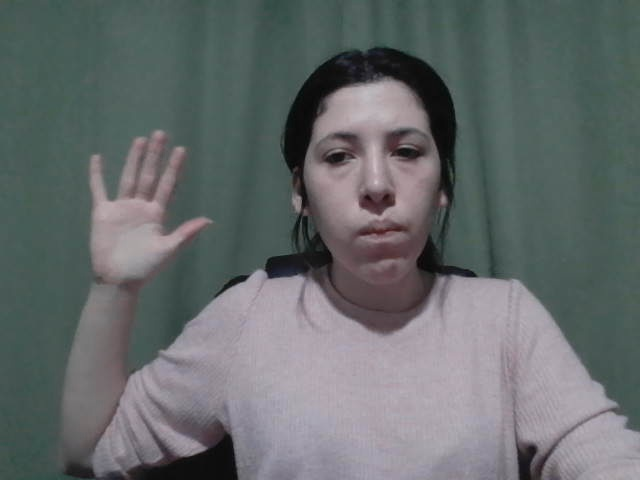HOLA: (72, 123, 216, 298)
